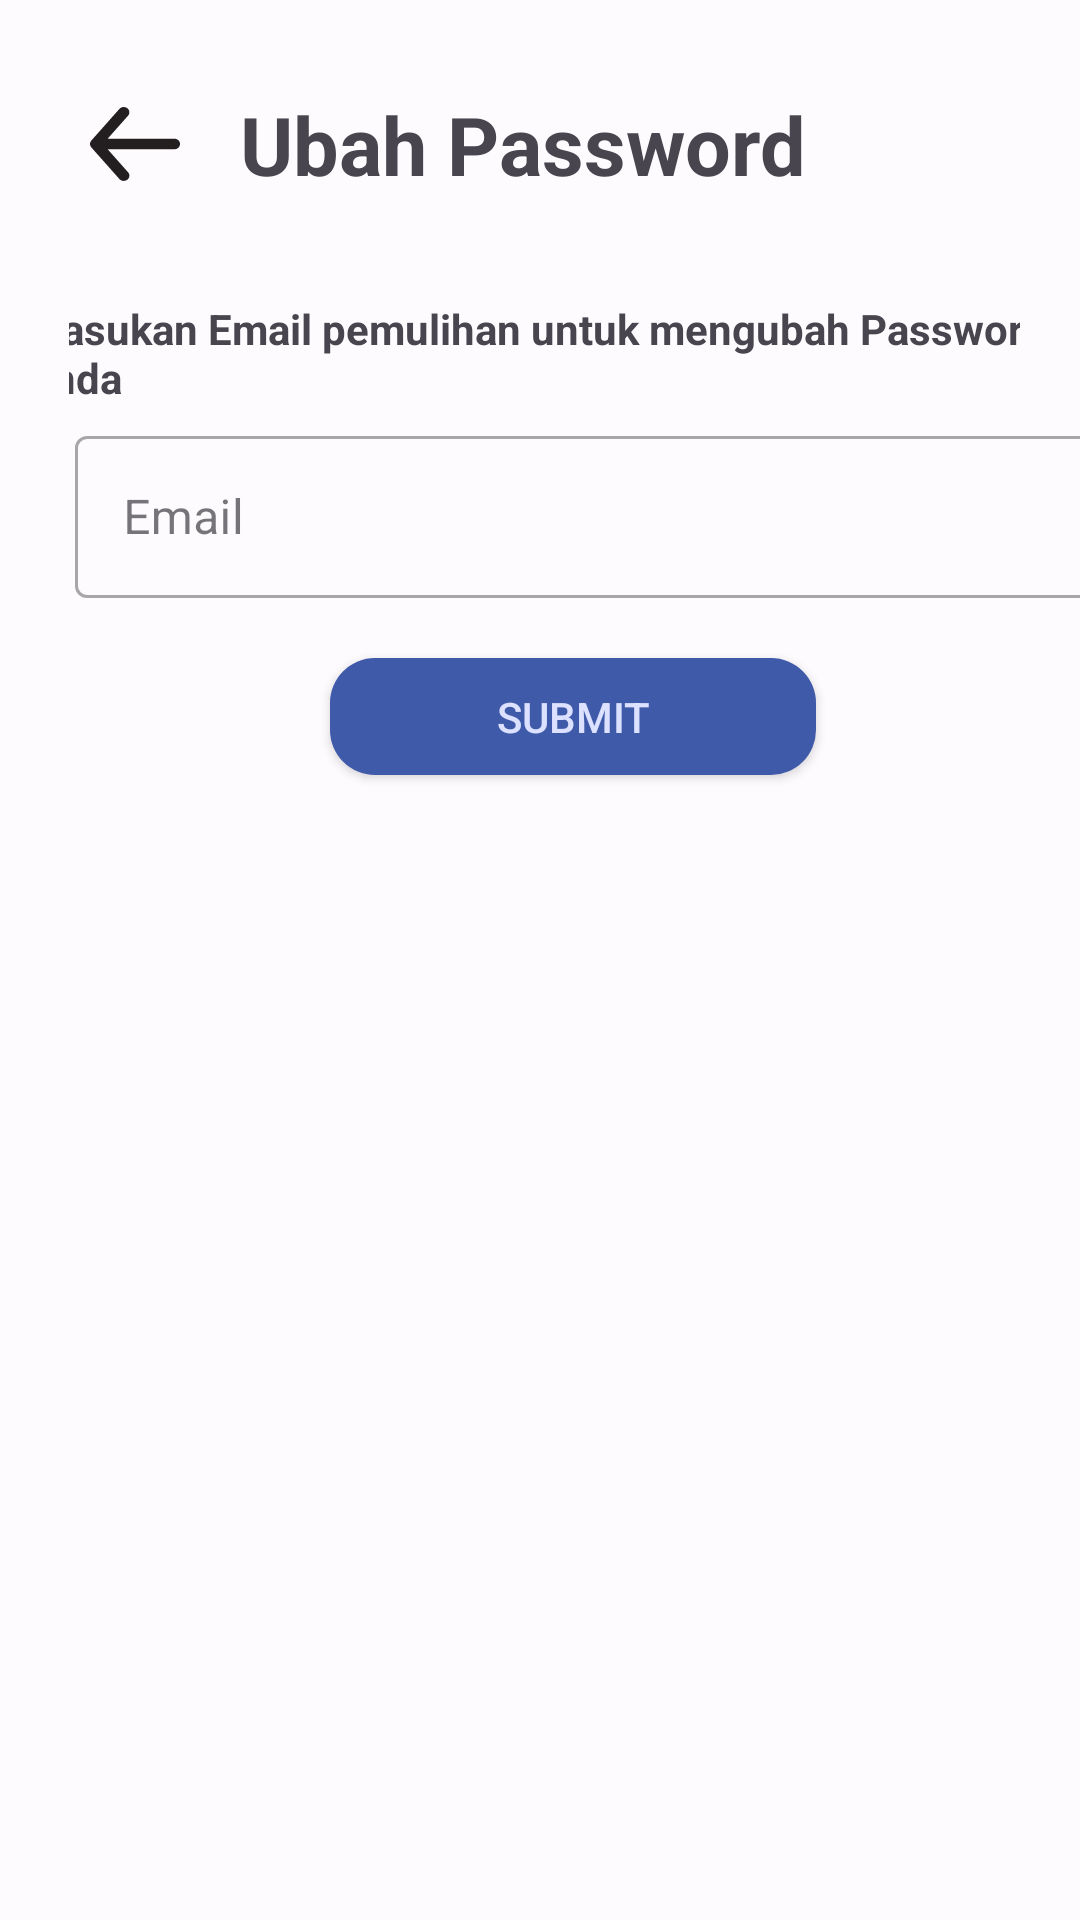

Icons on this 1080w x 1920h Android screen, each with its box as {"x1": x1, "y1": y1, "x2": x2, "y2": y2}:
back: {"x1": 90, "y1": 107, "x2": 180, "y2": 181}
